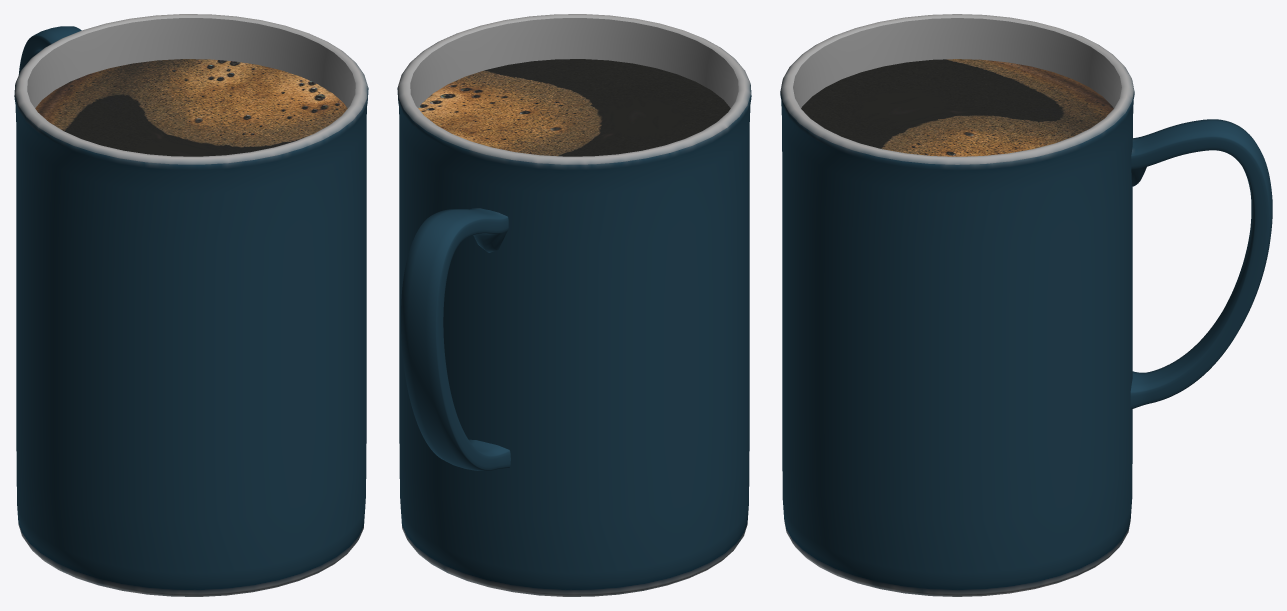
3 views of the same model, side by side, from view 1: azimuth 30°, elevation 25°; view 2: azimuth 150°, elevation 25°; view 3: azimuth 270°, elevation 25° (orthographic).
Parts seen in each view (by area): view 1: Cups; view 2: Cups; view 3: Cups.
Boxes of the visible parts, <box> form: Cups: <box>14,14,368,596</box>; Cups: <box>397,14,751,596</box>; Cups: <box>780,14,1272,596</box>.
Size of the model in its own units: 9.3 by 12.73 by 12.92.
Materials: 2 (2 with a texture image).
